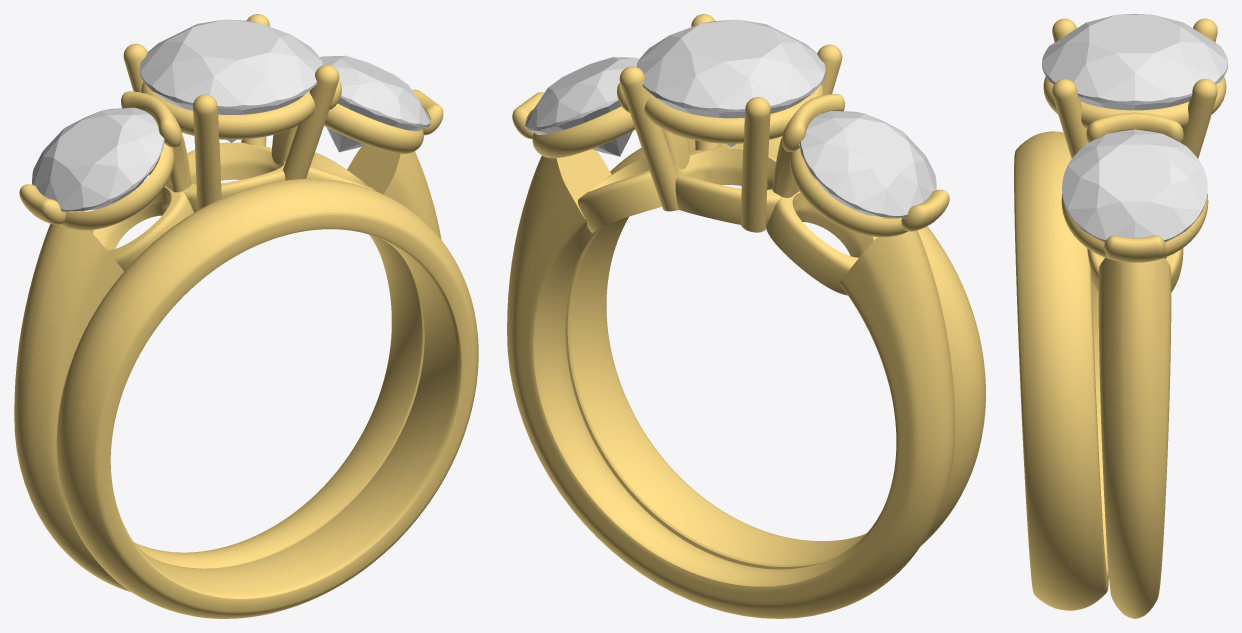
The model's file is PaulaBOTHfinal_blender.glb.
3 renders of one model, left to right at view 1: azimuth 30°, elevation 25°; view 2: azimuth 150°, elevation 25°; view 3: azimuth 270°, elevation 25°, orthographic. The views are drawn at different scales.
Visible parts, largest first — view 1: v4 WB paula YG for 3d model, v4 Paula YG for 3d model, V3 Paula dia for 3d model.002, V3 Paula dia for 3d model.001, V3 Paula dia for 3d model; view 2: v4 Paula YG for 3d model, v4 WB paula YG for 3d model, V3 Paula dia for 3d model.002, V3 Paula dia for 3d model.001, V3 Paula dia for 3d model; view 3: v4 WB paula YG for 3d model, v4 Paula YG for 3d model, V3 Paula dia for 3d model.002, V3 Paula dia for 3d model.
Boxes of the visible parts, x1,y1,x2,y2 form: v4 WB paula YG for 3d model: (56, 178, 478, 618); v4 Paula YG for 3d model: (14, 14, 443, 592); V3 Paula dia for 3d model.002: (139, 19, 322, 142); V3 Paula dia for 3d model.001: (32, 108, 164, 211); V3 Paula dia for 3d model: (320, 55, 430, 152); v4 Paula YG for 3d model: (507, 14, 954, 618); v4 WB paula YG for 3d model: (565, 136, 985, 569); V3 Paula dia for 3d model.002: (636, 19, 825, 146); V3 Paula dia for 3d model.001: (800, 111, 936, 217); V3 Paula dia for 3d model: (525, 57, 639, 156); v4 WB paula YG for 3d model: (1014, 131, 1108, 610); v4 Paula YG for 3d model: (1043, 18, 1226, 618); V3 Paula dia for 3d model.002: (1042, 14, 1227, 110); V3 Paula dia for 3d model: (1062, 129, 1207, 242).
Size of the model in its own units: 19.9 by 24.64 by 8.51.
